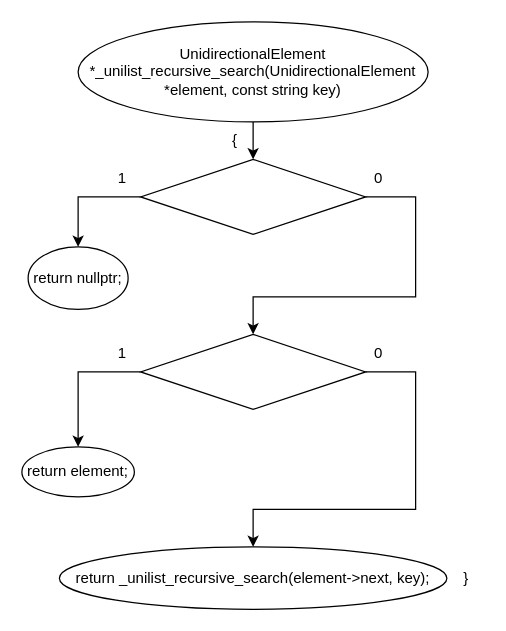
Some shapes in this 506 by 631 pixel diagram are drawn without their labels. The shapes that lost their labels are listed below. From the top down, each one's centre as x and y in pixels, then its label:
pixel 252 196: if (element->next == nullptr)
pixel 252 371: if (element->next->key == key)
